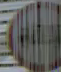Heavy Vehicles: (7, 6, 56, 62)
